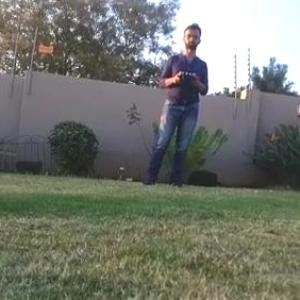follow: (138, 16, 212, 193)
